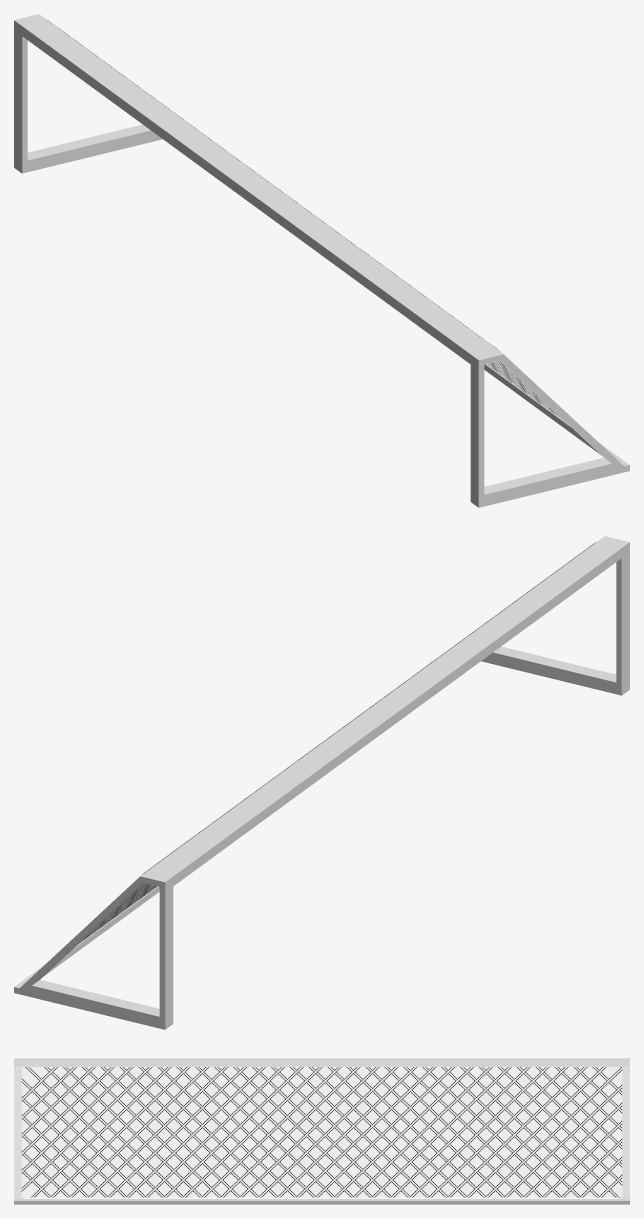
Rendered from pond_goal.fbx.
3 renders of one model, top to bottom at view 1: azimuth 30°, elevation 25°; view 2: azimuth 150°, elevation 25°; view 3: azimuth 270°, elevation 25°, orthographic. The views are drawn at different scales.
Parts seen in each view (by area): view 1: Goal_frame, goal_net; view 2: Goal_frame, goal_net; view 3: goal_net, Goal_frame.
Boxes of the visible parts, x1,y1,x2,y2 form: Goal_frame: (14, 14, 629, 507); goal_net: (47, 19, 564, 421); Goal_frame: (14, 536, 629, 1029); goal_net: (79, 541, 596, 943); goal_net: (21, 1067, 622, 1197); Goal_frame: (14, 1058, 629, 1204).
Bounding box in the file's own units: 160 × 149 × 852.
